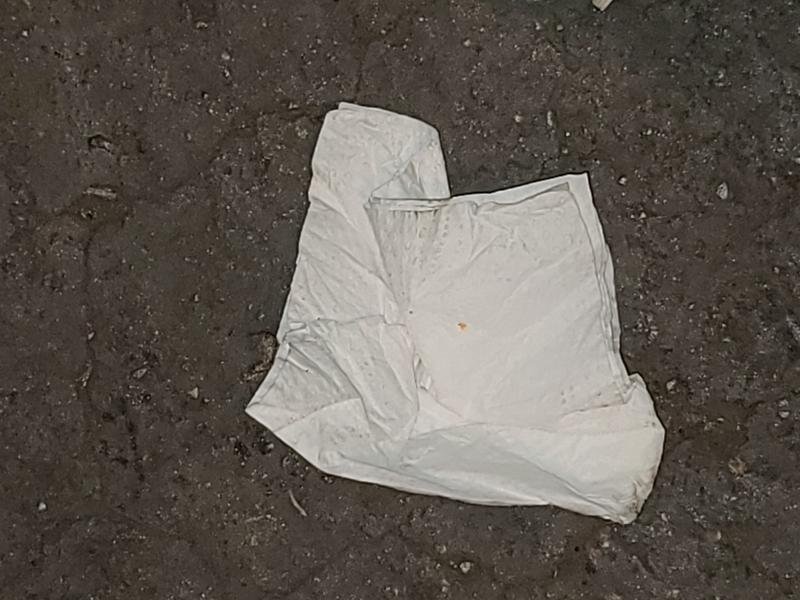papel: (245, 104, 667, 526)
